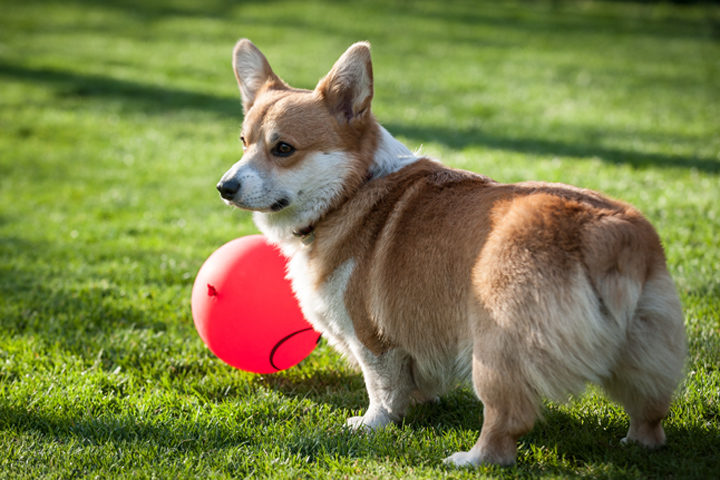dog: (221, 37, 684, 460)
